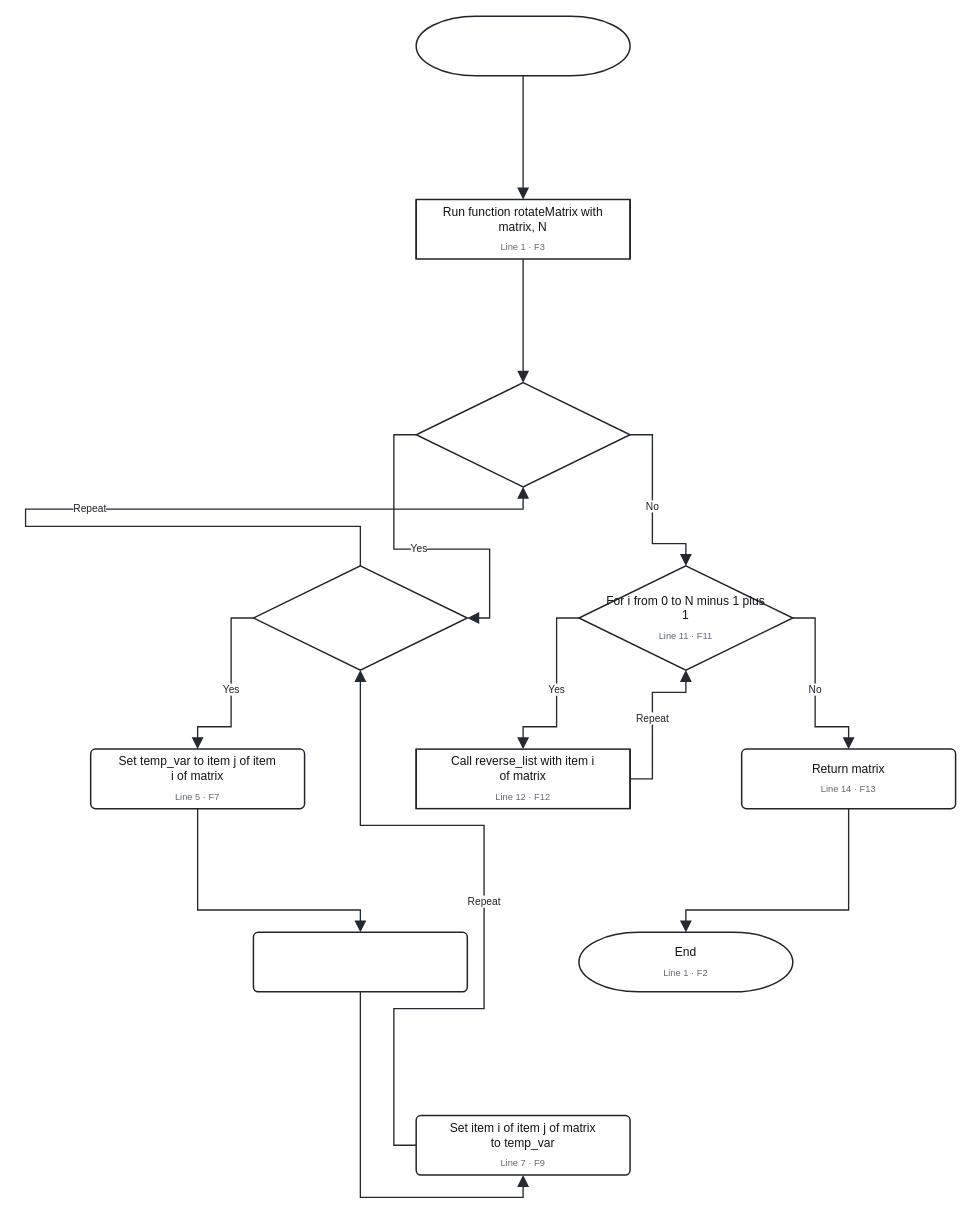
This 973x1225 diagram has some shape labels left out. Here are the shapes that lost their labels. From the top down, the centre of each, then its label:
the point at 522,45: Start Line 1 · F1
the point at 522,434: For i from 0 to N minus 1 plus 1 Line 3 · F5
the point at 360,617: For j from i plus 1 to N minus 1 plus 1 Line 4 · F6
the point at 360,961: Set item j of item i of matrix to item i of item j of matrix Line 6 · F8
